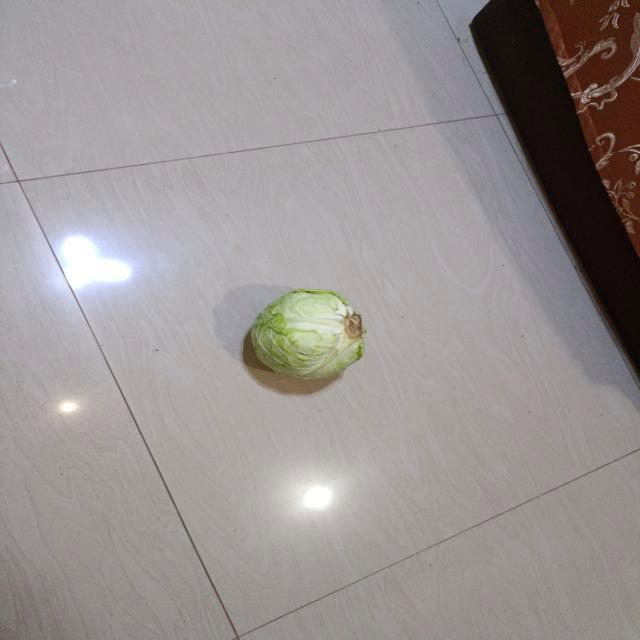cabbage: (244, 287, 369, 384)
